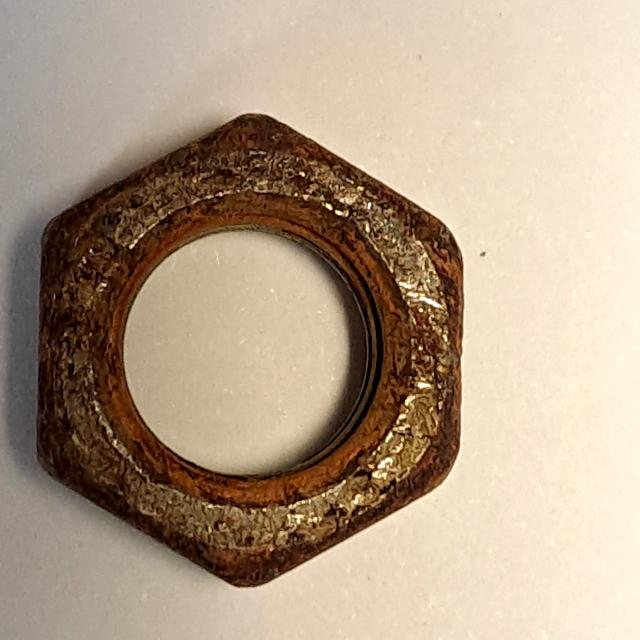Rust: (17, 102, 476, 601)
